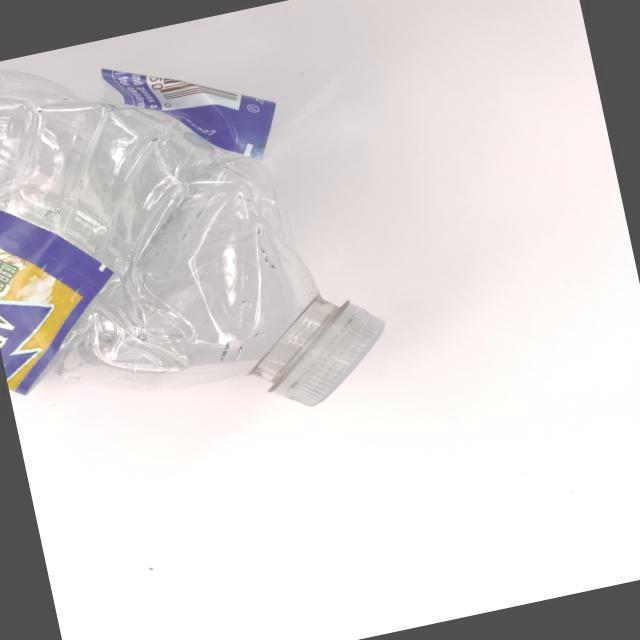plastic: (0, 0, 431, 486)
